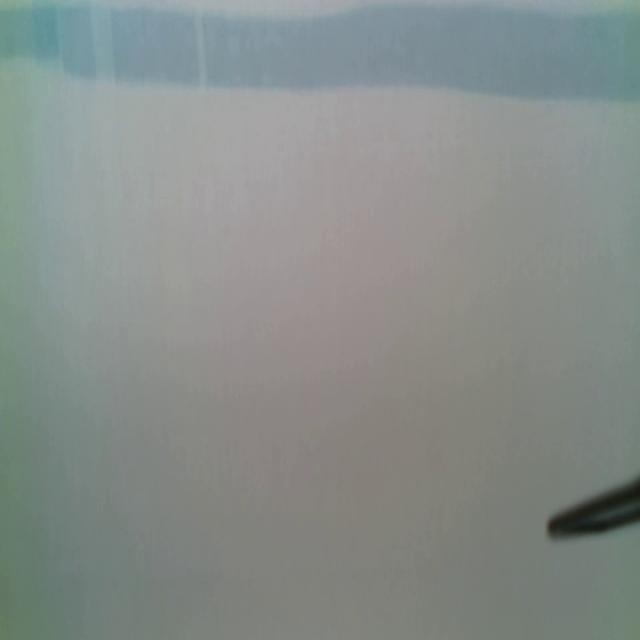color bleeding: (0, 0, 640, 110)
